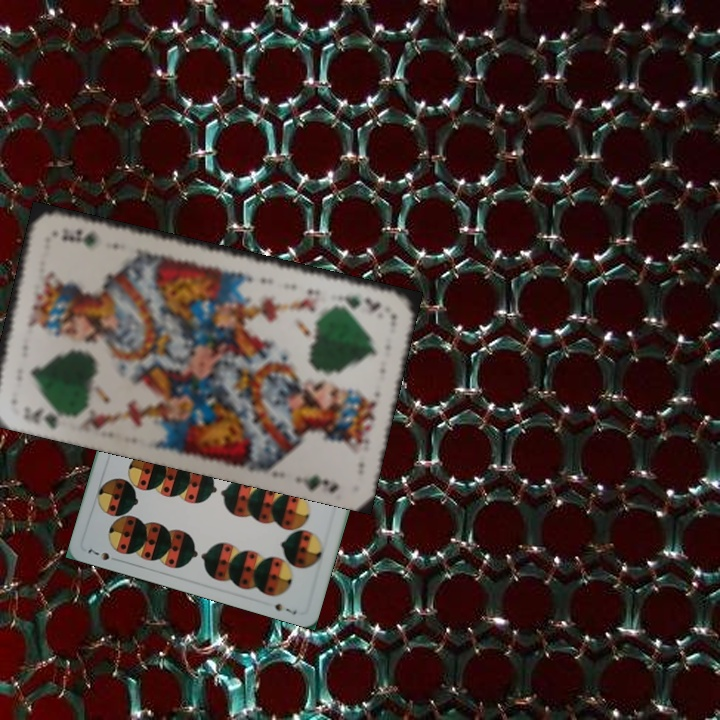GK: (20, 402, 69, 431), (334, 291, 384, 315)
S7: (83, 545, 112, 563)
